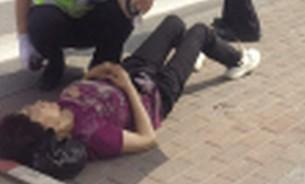Fall-Detected: (5, 6, 265, 173)
